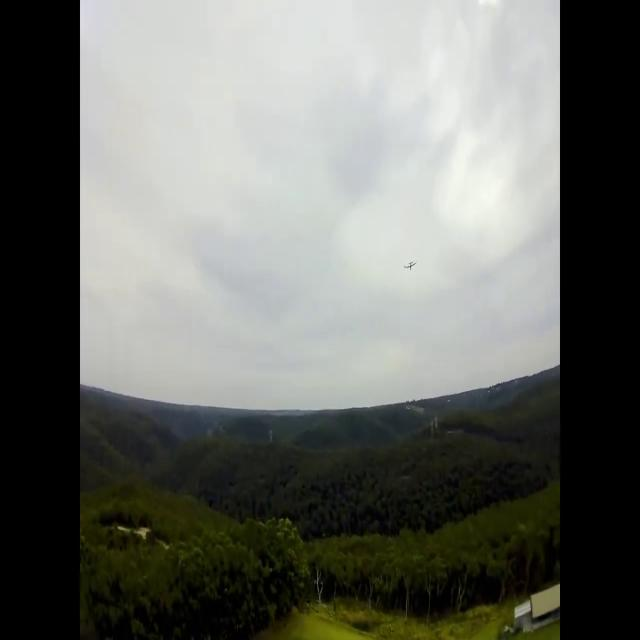iha: (403, 258, 418, 260)
